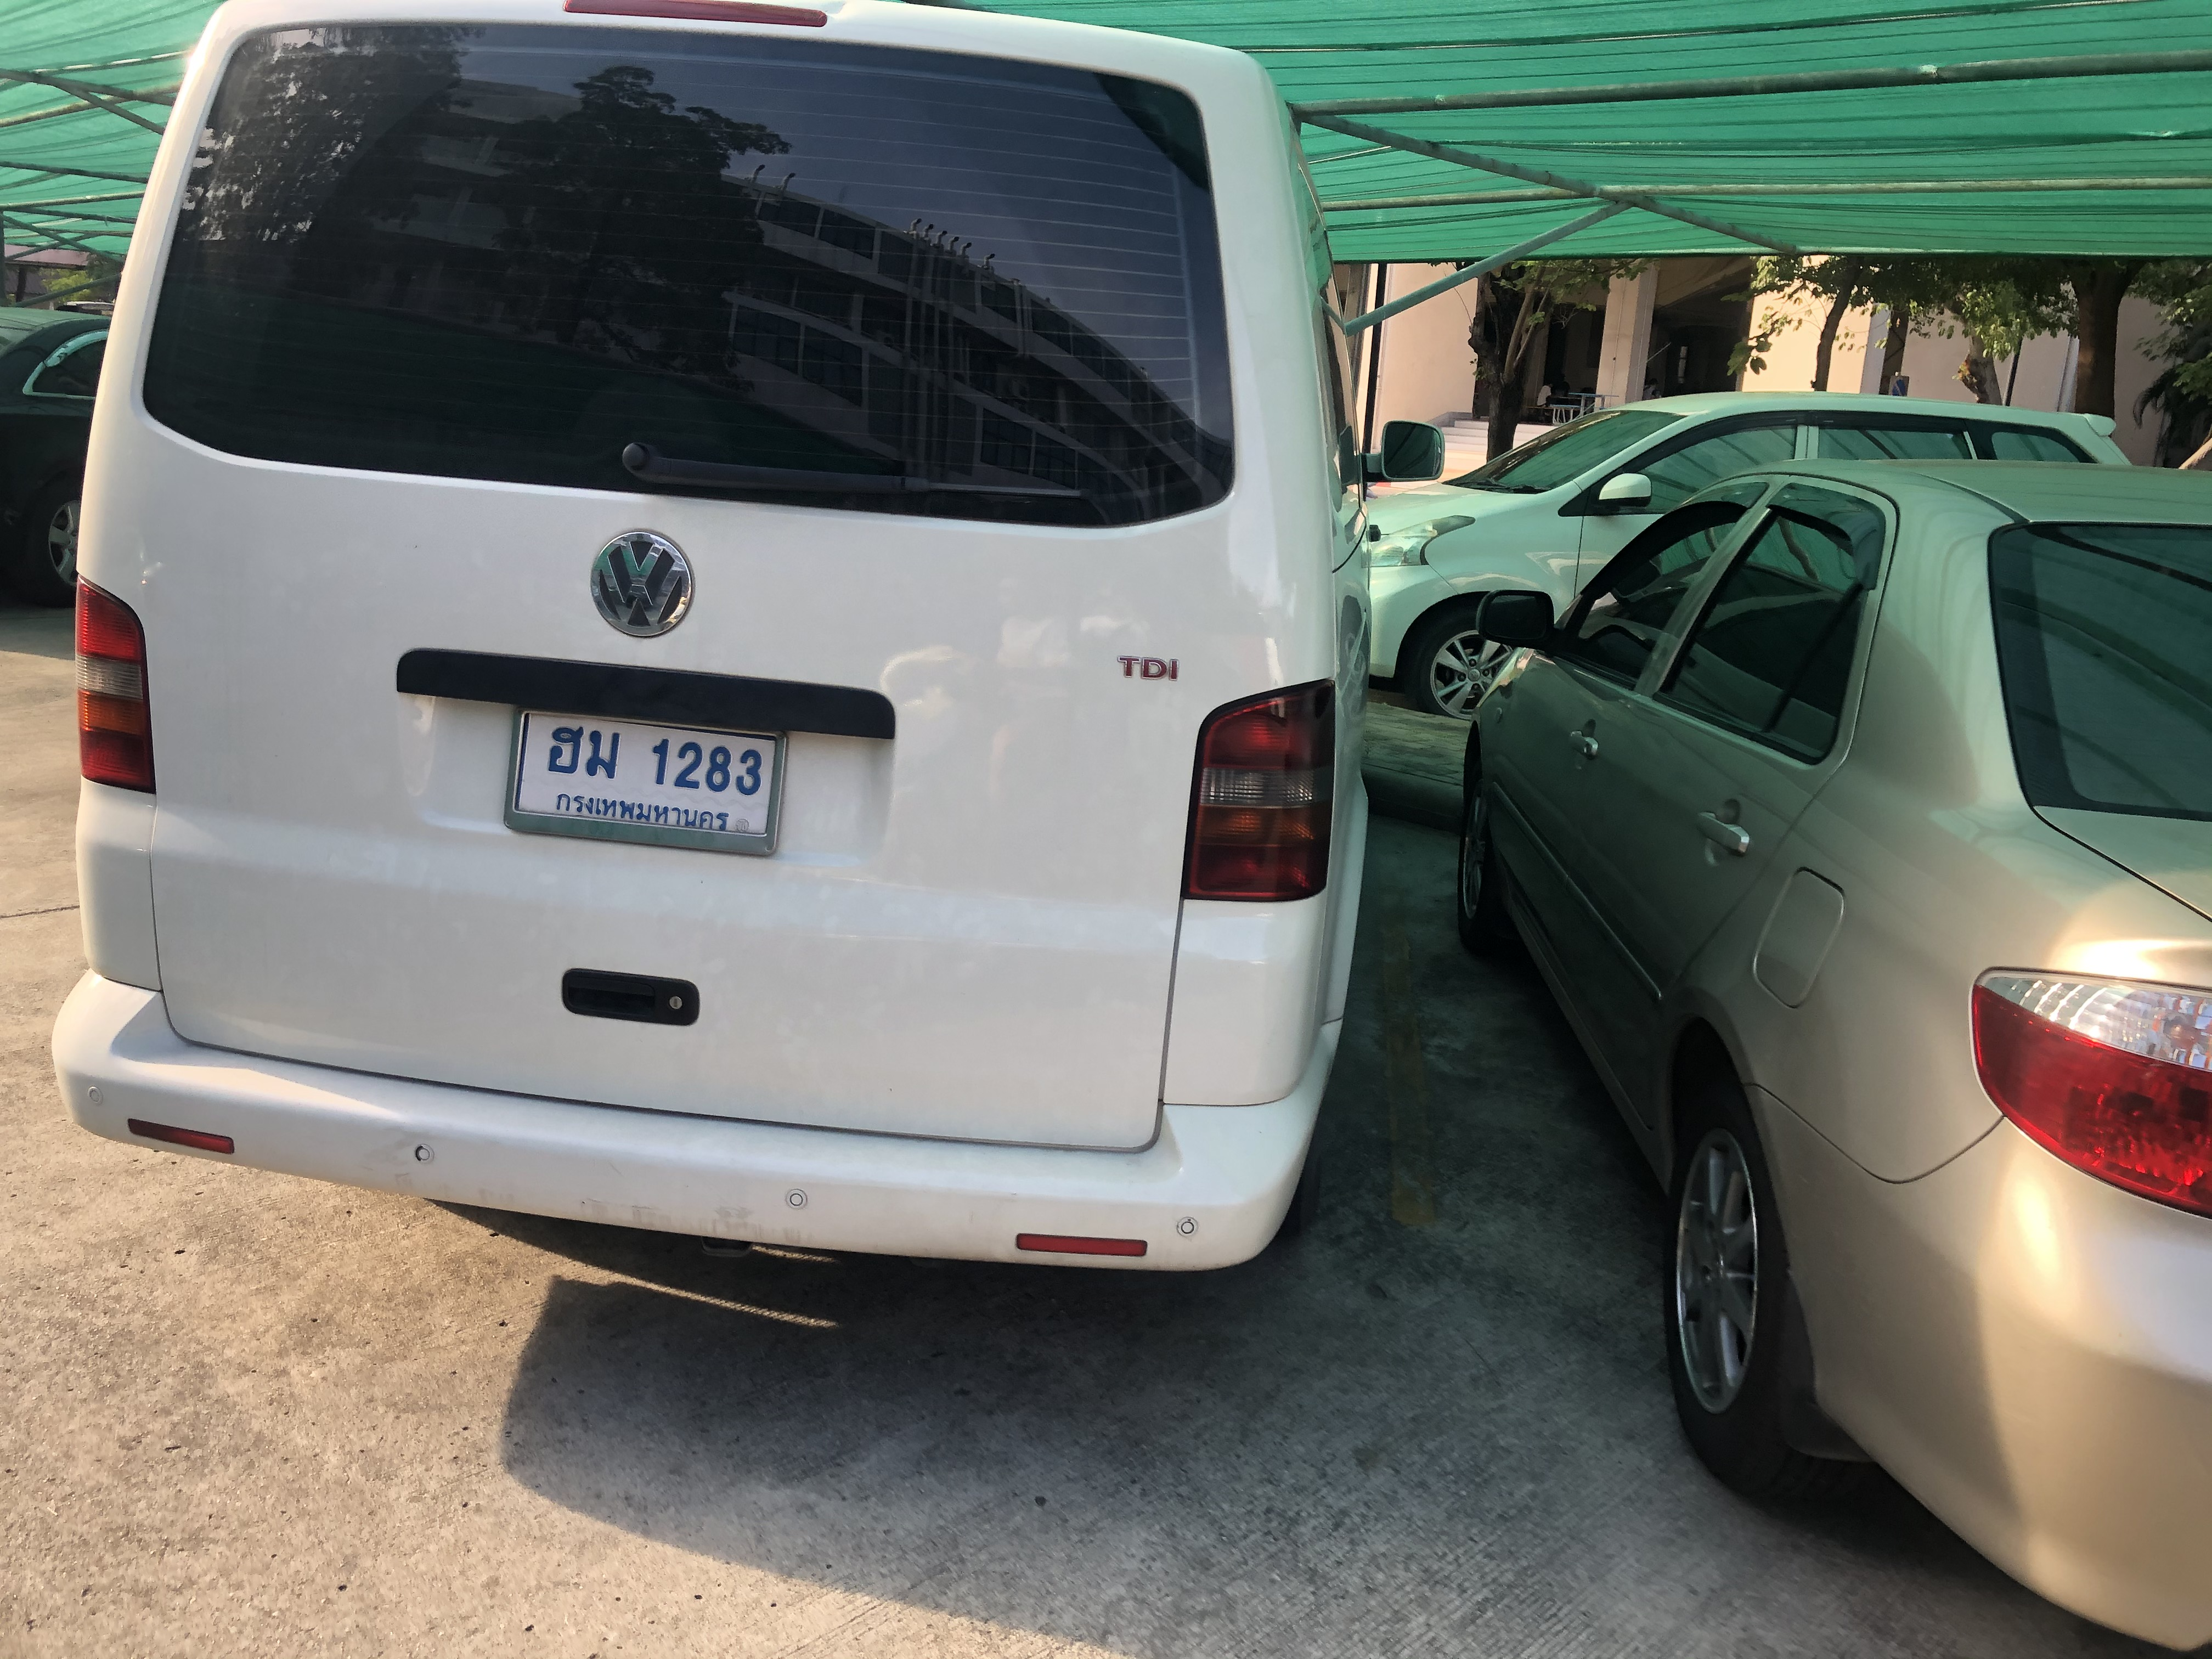in: (514, 713, 775, 838)
out: (503, 697, 791, 861)
